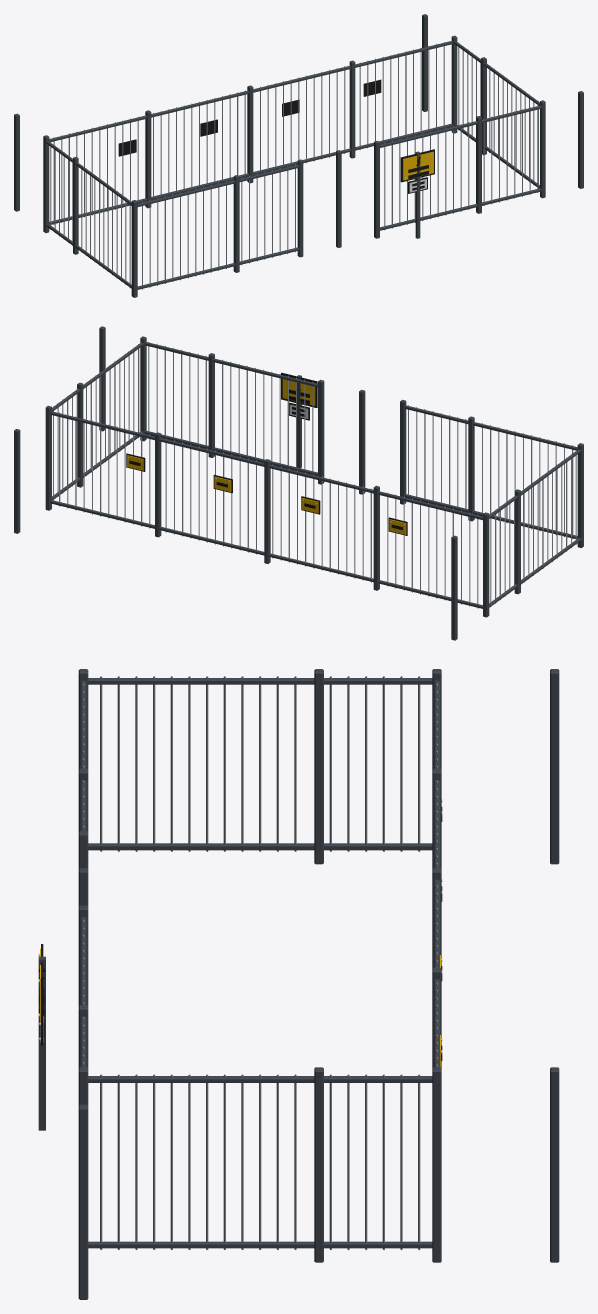
The model's file is st-fence.glb.
The picture shows the model from 3 angles, top to bottom: view 1: azimuth 30°, elevation 25°; view 2: azimuth 150°, elevation 25°; view 3: azimuth 270°, elevation 25°; orthographic projection. The views are drawn at different scales.
Visible parts, largest first — view 1: Fence_VerticalBars, Fence_Posts, Fence_Rails, Sign_BoardYellow, Sign_Pole; view 2: Fence_VerticalBars, Fence_Posts, Fence_Rails, Sign_BoardYellow, Sign_Pole; view 3: Fence_VerticalBars, Fence_Posts, Fence_Rails, Sign_Pole.
Boxes of the visible parts, x1=… form: Fence_VerticalBars: x1=50, y1=42, x2=538, y2=289; Fence_Posts: x1=14, y1=14, x2=583, y2=297; Fence_Rails: x1=46, y1=41, x2=541, y2=289; Sign_BoardYellow: x1=403, y1=151, x2=433, y2=180; Sign_Pole: x1=415, y1=151, x2=420, y2=238; Fence_VerticalBars: x1=53, y1=342, x2=576, y2=608; Fence_Posts: x1=14, y1=326, x2=583, y2=640; Fence_Rails: x1=50, y1=342, x2=580, y2=608; Sign_BoardYellow: x1=282, y1=379, x2=315, y2=405; Sign_Pole: x1=296, y1=375, x2=301, y2=468; Fence_VerticalBars: x1=82, y1=676, x2=437, y2=1250; Fence_Posts: x1=78, y1=669, x2=559, y2=1299; Fence_Rails: x1=80, y1=678, x2=439, y2=1248; Sign_Pole: x1=38, y1=956, x2=45, y2=1130.
Size of the model in its own units: 8.83 by 1.8 by 4.42.
